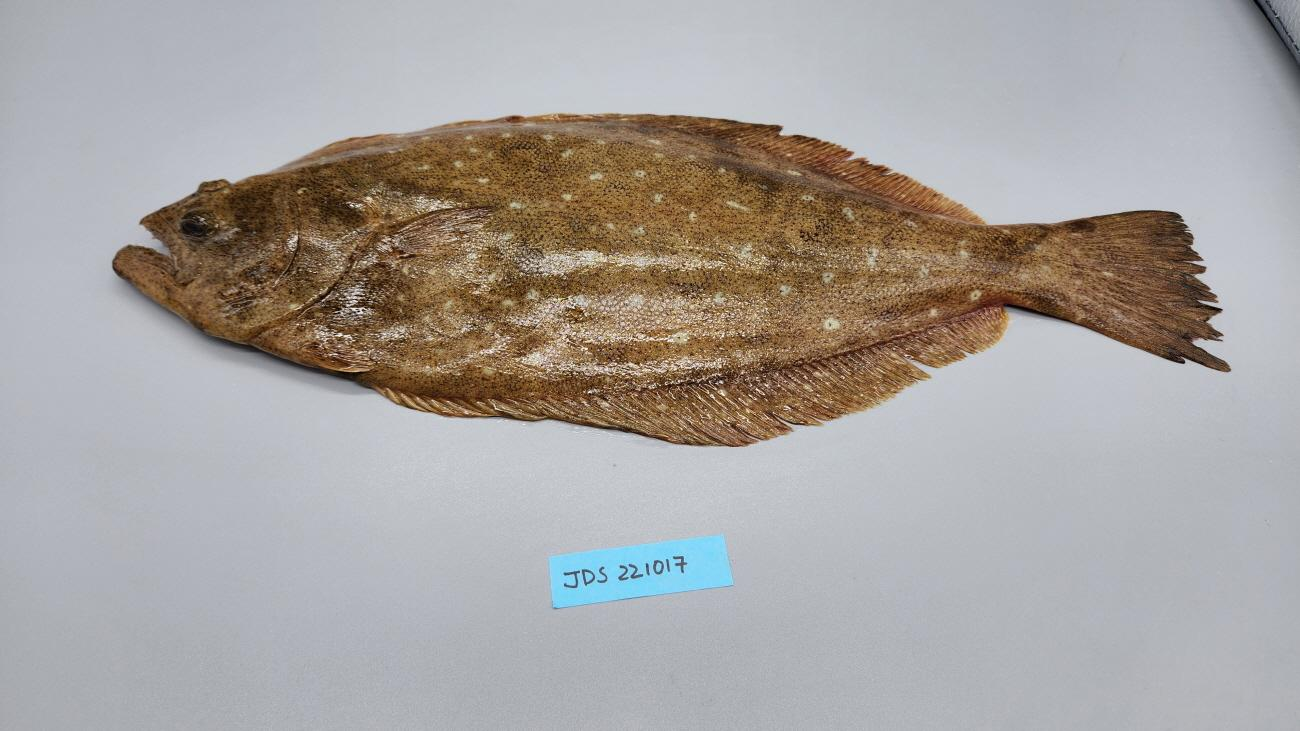POOUN: (111, 114, 1230, 449)
